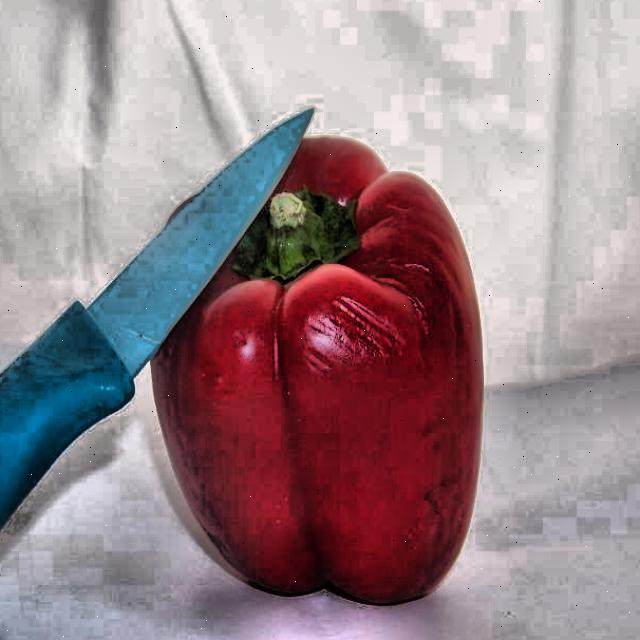knife: (0, 100, 318, 542)
